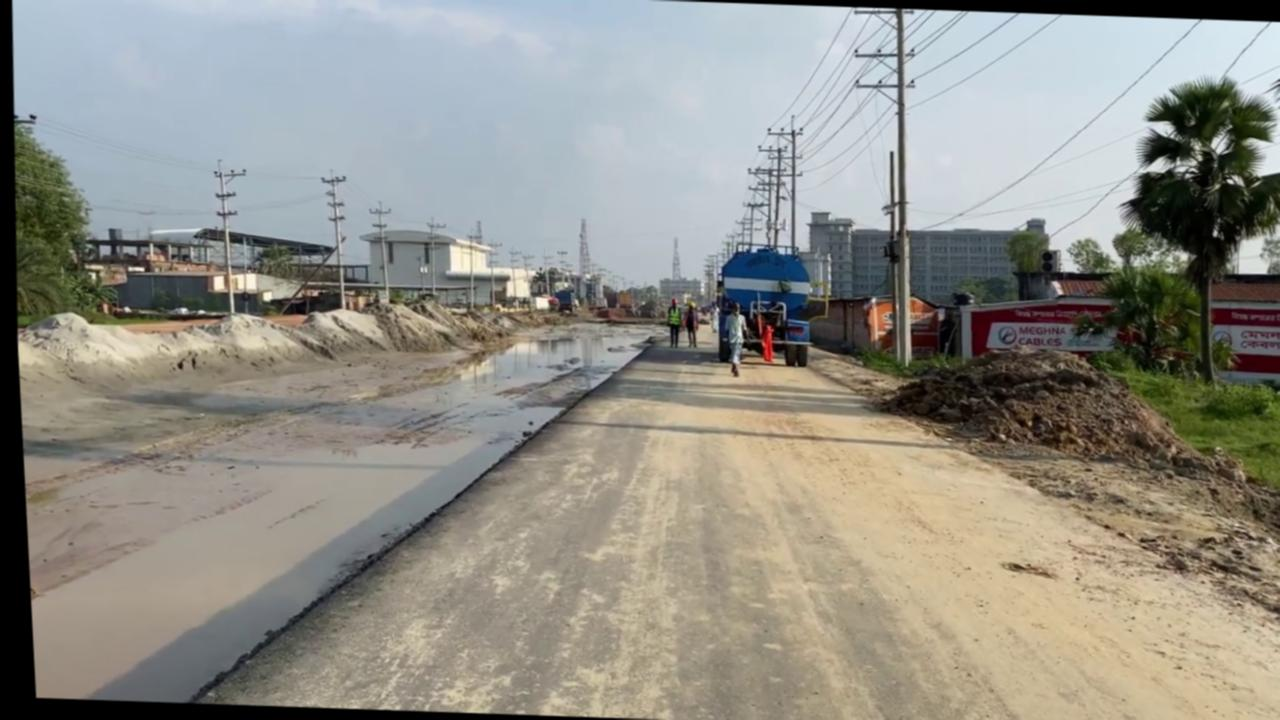Pole: (876, 9, 923, 367), (205, 158, 249, 314), (313, 168, 350, 310)
Sidewalk: (12, 297, 676, 718)
Traffic-sign: (1101, 69, 1280, 387), (6, 122, 119, 326)
Tree: (704, 243, 825, 366), (544, 287, 573, 314)
